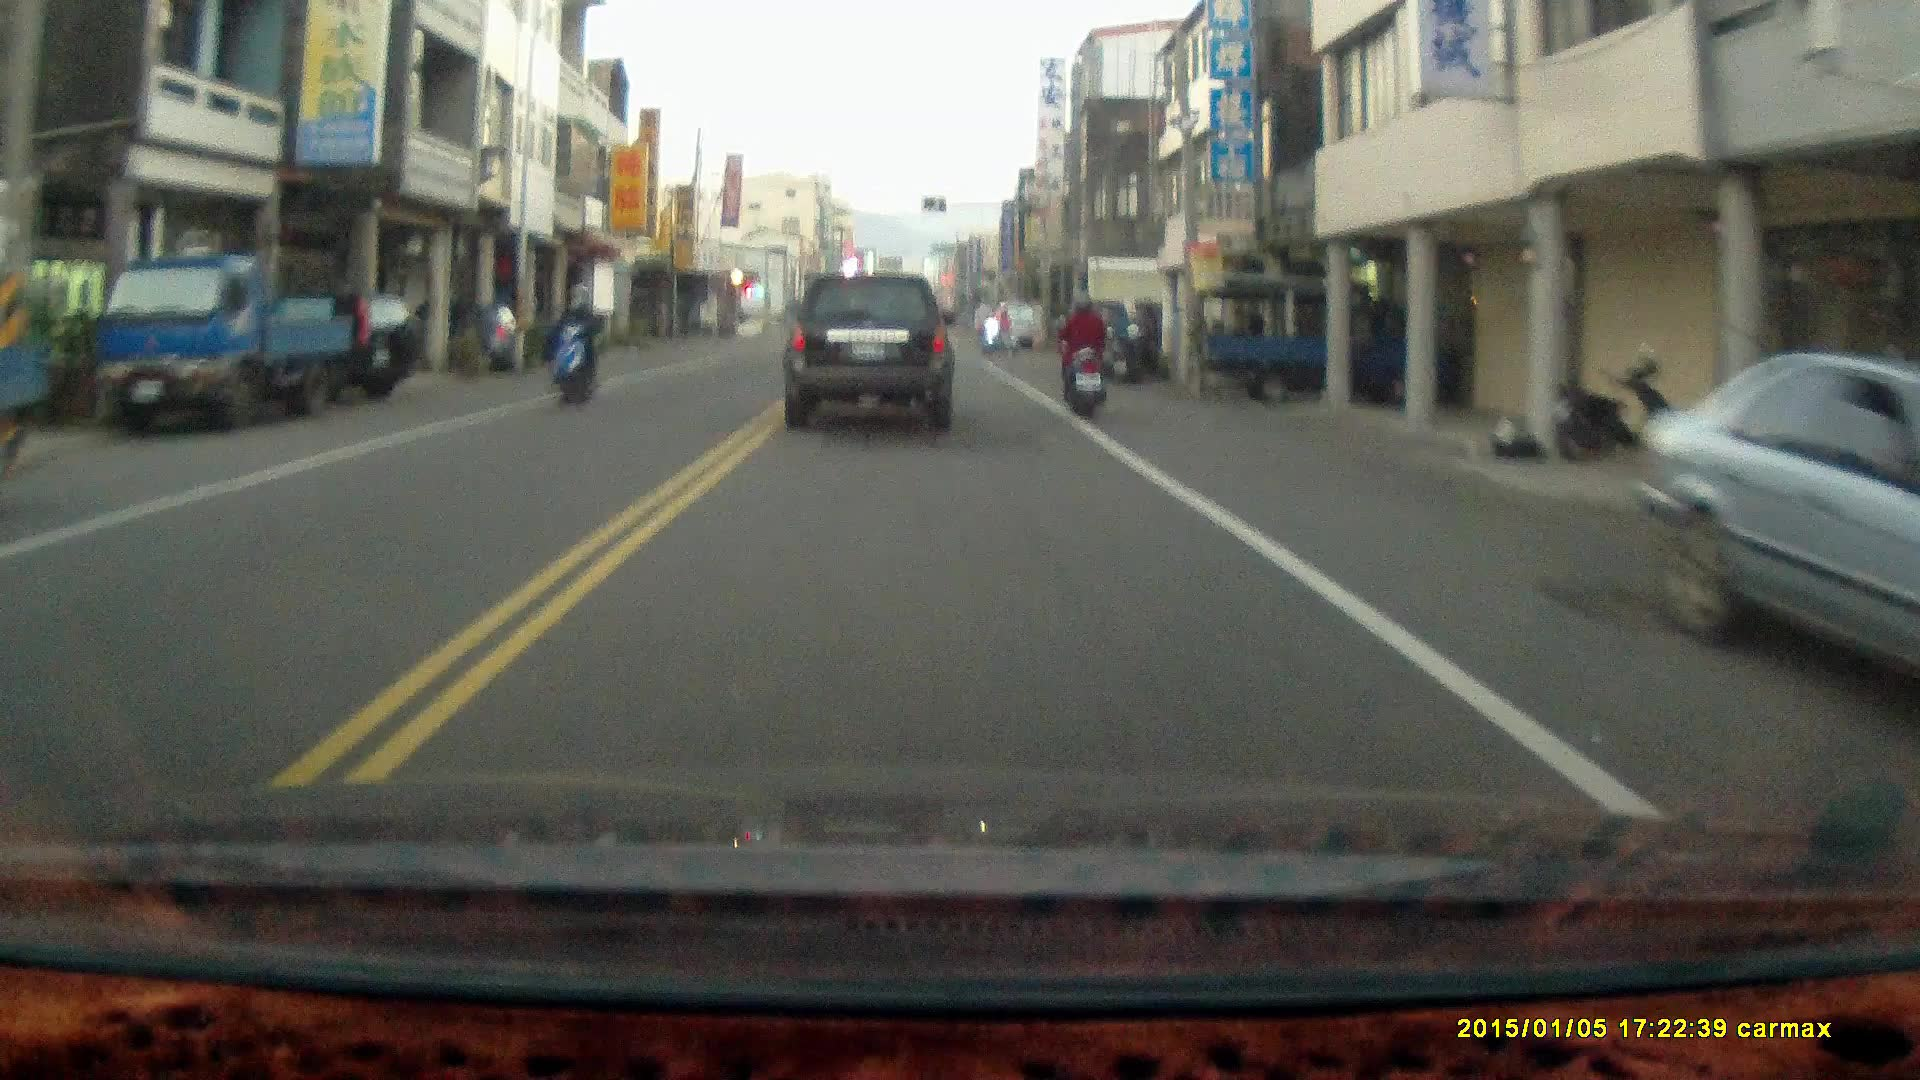rider: (1056, 288, 1108, 421), (546, 287, 599, 407), (978, 303, 1017, 352)
vehicle: (1637, 350, 1920, 702), (85, 252, 352, 433), (1196, 269, 1462, 403), (781, 261, 958, 427), (252, 291, 426, 402)
